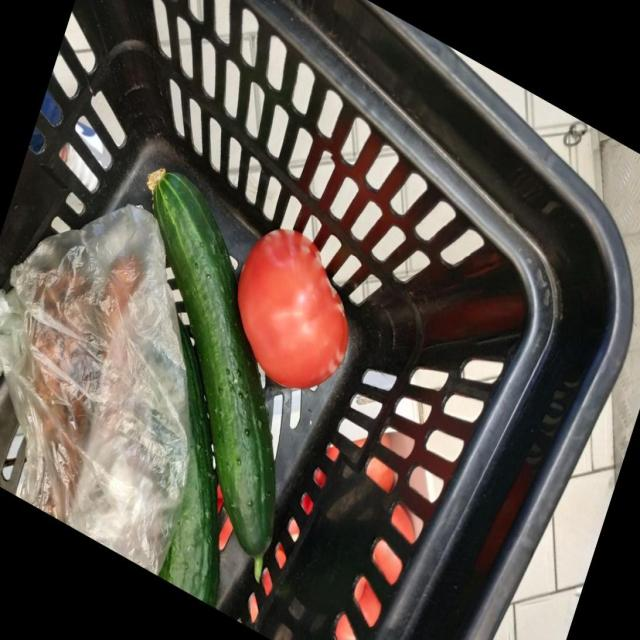cucumber: (110, 249, 322, 640), (120, 139, 330, 344)
tomato: (119, 131, 356, 429)
